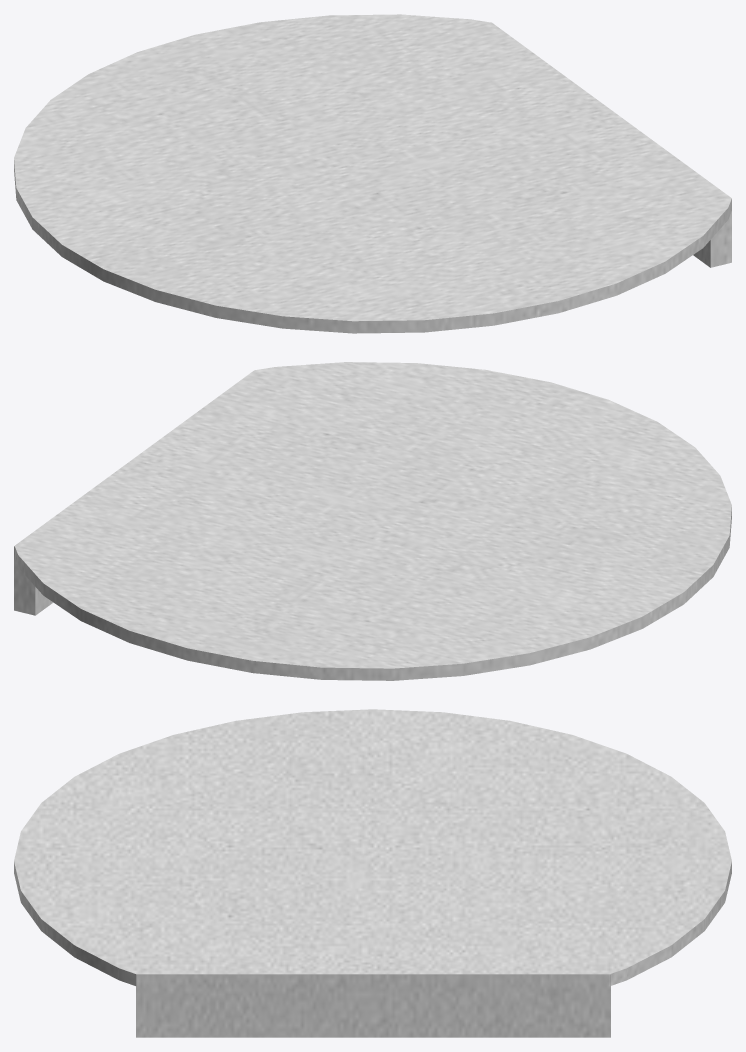
File: case.glb
The picture shows the model from 3 angles, top to bottom: view 1: azimuth 30°, elevation 25°; view 2: azimuth 150°, elevation 25°; view 3: azimuth 270°, elevation 25°; orthographic projection.
Parts seen in each view (by area): view 1: filter_case; view 2: filter_case; view 3: filter_case.
Boxes of the visible parts, x1,y1,x2,y2 form: filter_case: (14, 14, 731, 333); filter_case: (14, 362, 731, 680); filter_case: (14, 709, 731, 1037).
Bounding box in the file's own units: 9.1 × 1.02 × 10.43.
Materials: 1 (1 with a texture image).
